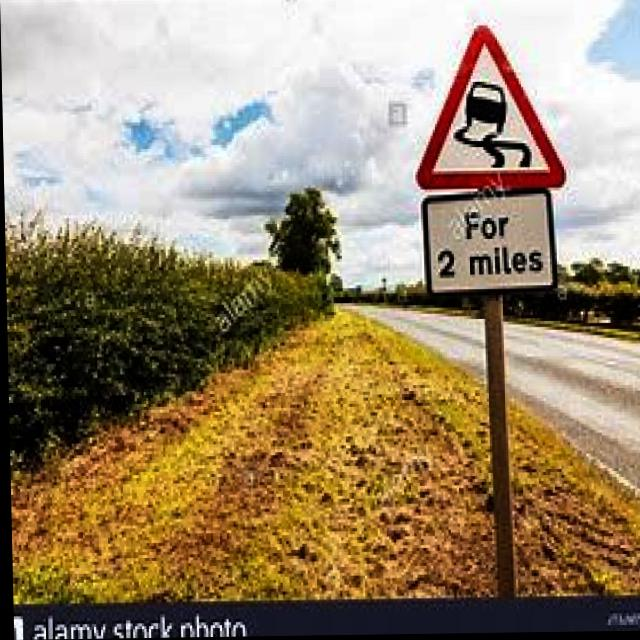SLIPPERY_ROAD: (413, 16, 567, 192)
